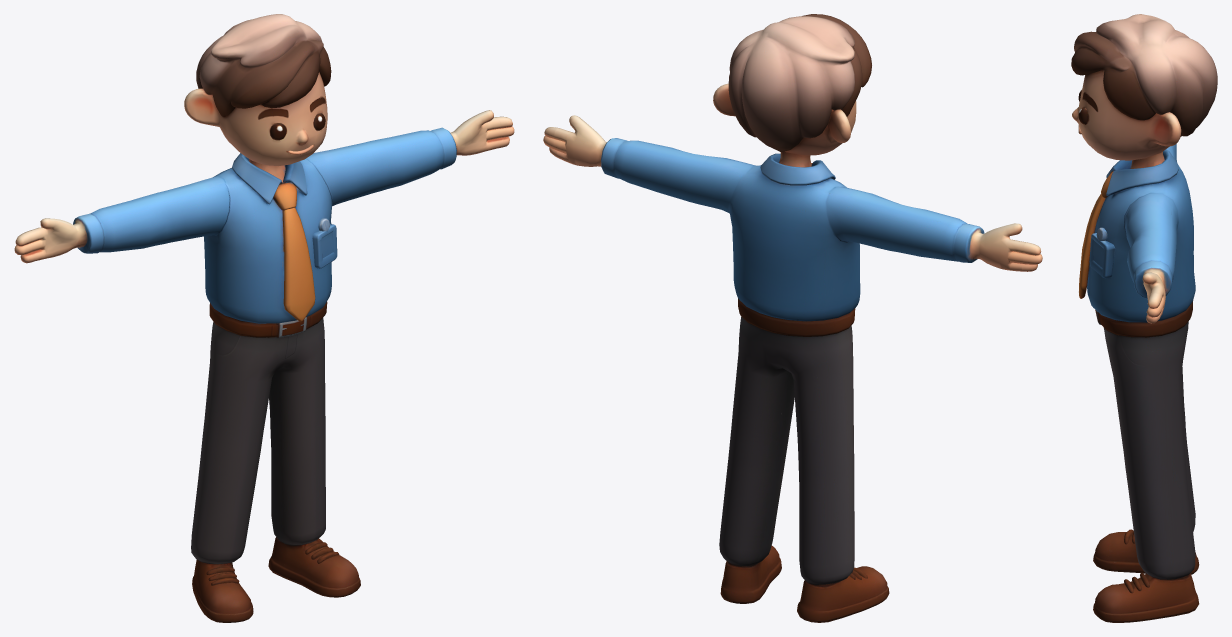
The model's file is Male_02.fbx.
3 renders of one model, left to right at view 1: azimuth 30°, elevation 25°; view 2: azimuth 150°, elevation 25°; view 3: azimuth 270°, elevation 25°, orthographic.
Visible parts, largest first — view 1: tripo_3d6fb726_a35e_4ac9_b253_9fdd08f24da4; view 2: tripo_3d6fb726_a35e_4ac9_b253_9fdd08f24da4; view 3: tripo_3d6fb726_a35e_4ac9_b253_9fdd08f24da4.
Part boxes in pixels (bbox=[...]): tripo_3d6fb726_a35e_4ac9_b253_9fdd08f24da4: bbox=[14, 14, 514, 622]; tripo_3d6fb726_a35e_4ac9_b253_9fdd08f24da4: bbox=[543, 14, 1042, 622]; tripo_3d6fb726_a35e_4ac9_b253_9fdd08f24da4: bbox=[1071, 14, 1217, 622].
Bounding box in the file's own units: 0.9165 × 0.9995 × 0.2358.
